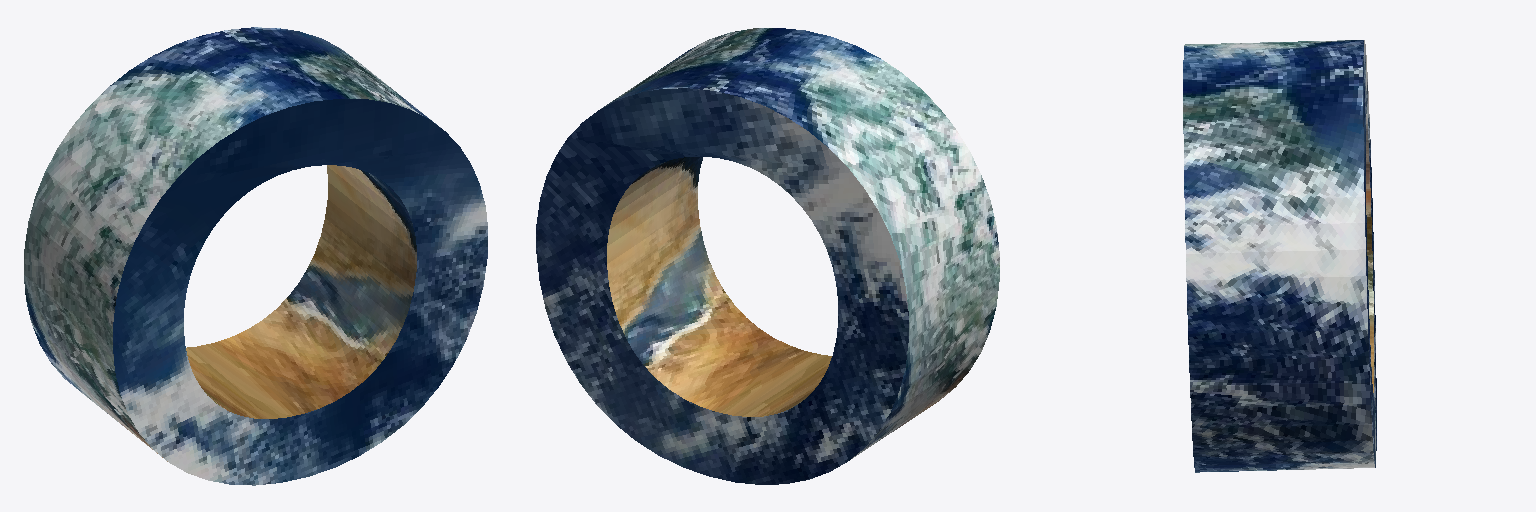
3 views of the same model, side by side, from view 1: azimuth 30°, elevation 25°; view 2: azimuth 150°, elevation 25°; view 3: azimuth 270°, elevation 25° (orthographic).
Visible parts, largest first — view 1: 文本.001_Mesh.003; view 2: 文本.001_Mesh.003; view 3: 文本.001_Mesh.003.
Boxes of the visible parts, x1,y1,x2,y2 form: 文本.001_Mesh.003: [24, 27, 487, 485]; 文本.001_Mesh.003: [536, 28, 999, 484]; 文本.001_Mesh.003: [1183, 40, 1376, 472].
Bounding box in the file's own units: 0.6537 × 0.643 × 0.2922.
Materials: 1 (1 with a texture image).